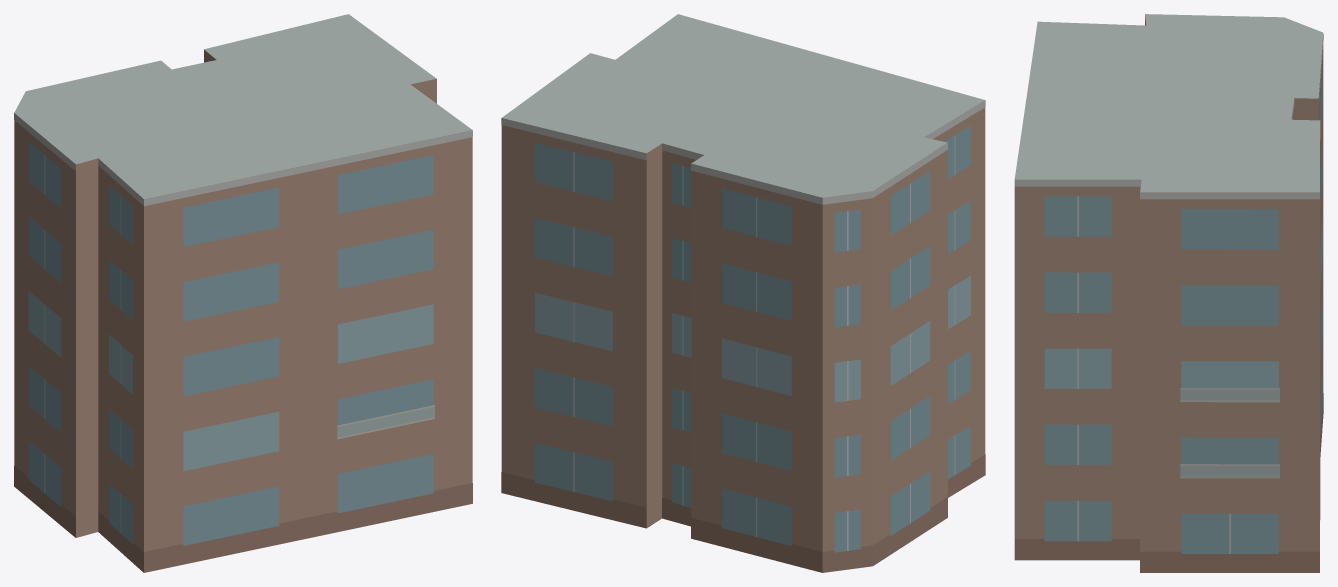
The model's file is survey-upis-32650003.glb.
3 views of the same model, side by side, from view 1: azimuth 30°, elevation 25°; view 2: azimuth 150°, elevation 25°; view 3: azimuth 270°, elevation 25° (orthographic).
Parts seen in each view (by area): view 1: survey-upis-32650003.tmp; view 2: survey-upis-32650003.tmp; view 3: survey-upis-32650003.tmp.
Part boxes in pixels (box(x1,y1,x2,y2)): survey-upis-32650003.tmp: box(14, 14, 472, 572); survey-upis-32650003.tmp: box(501, 14, 985, 572); survey-upis-32650003.tmp: box(1014, 14, 1323, 572).
Size of the model in its own units: 13.1 by 13 by 9.57.
